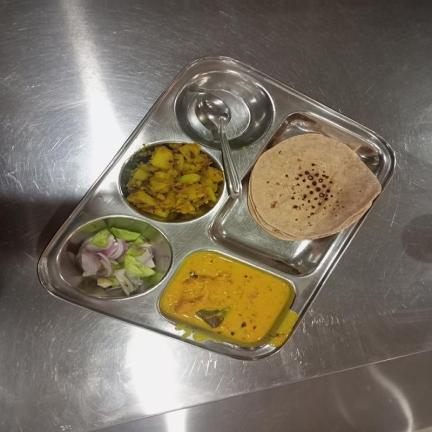Curry: (159, 251, 290, 343)
Plate: (37, 54, 397, 361)
Roti: (247, 133, 383, 242)
Salad: (75, 227, 158, 297)
Zeera Aalu: (124, 144, 225, 219)
